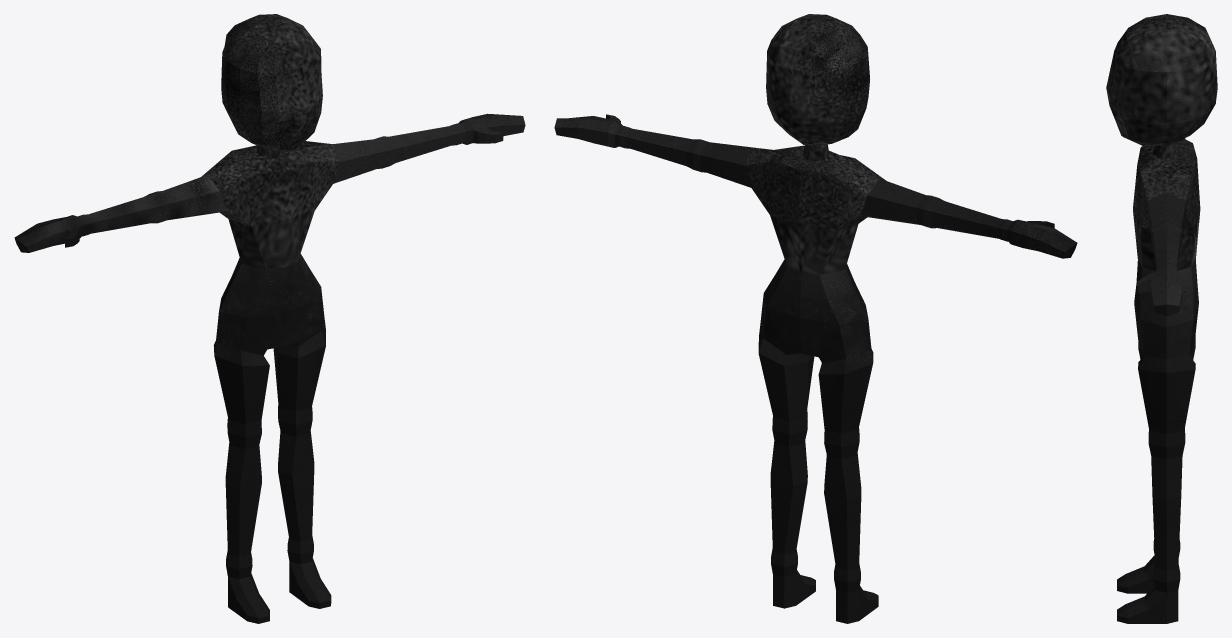
The model's file is Ghost.fbx.
3 renders of one model, left to right at view 1: azimuth 30°, elevation 25°; view 2: azimuth 150°, elevation 25°; view 3: azimuth 270°, elevation 25°, orthographic. The views are drawn at different scales.
Parts seen in each view (by area): view 1: Cylinder; view 2: Cylinder; view 3: Cylinder.
Part boxes in pixels (<box>): Cylinder: <box>14,14,525,623</box>; Cylinder: <box>554,14,1077,623</box>; Cylinder: <box>1106,14,1217,623</box>.
Bounding box in the file's own units: 759 × 828 × 143.
Materials: 1 (1 with a texture image).
